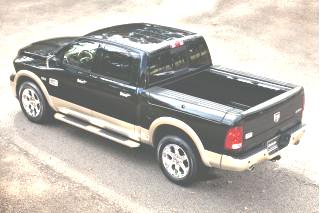ram: (271, 110, 282, 126)
